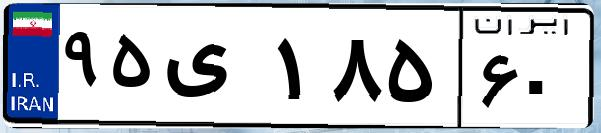0: (525, 38, 570, 115)
1: (270, 28, 330, 110)
5: (385, 28, 445, 110), (110, 28, 158, 98)
6: (475, 38, 525, 113)
8: (330, 28, 385, 110)
9: (57, 26, 110, 100)
ی: (158, 20, 270, 120)
